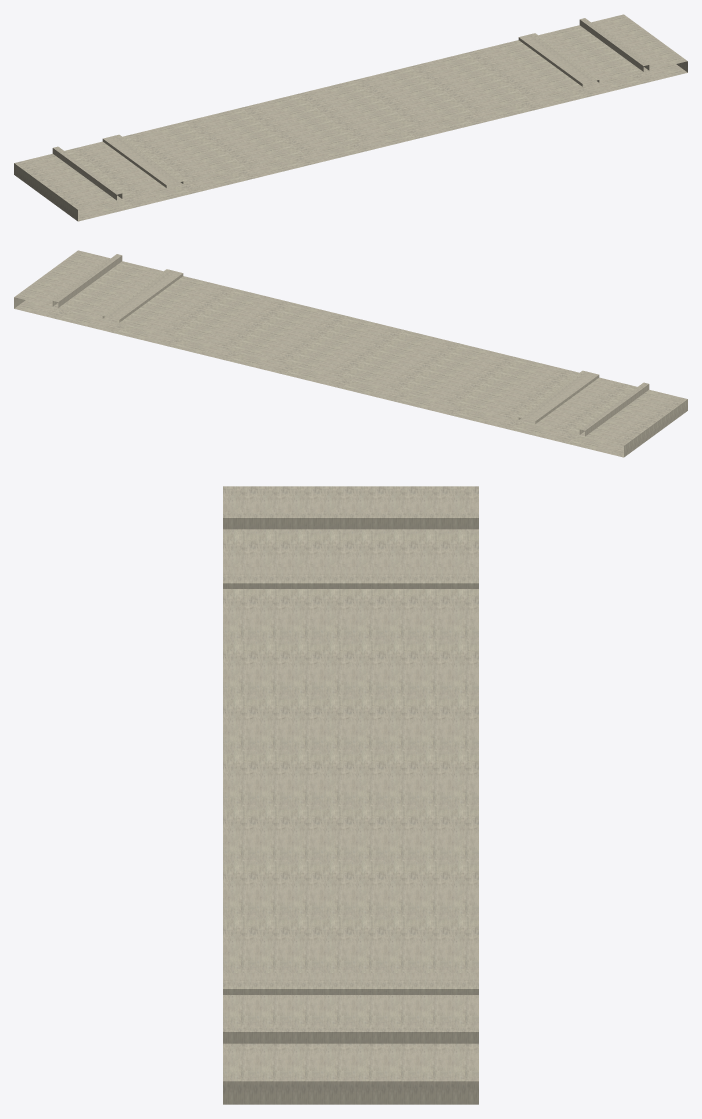
The model's file is SuspBridgeBase-6L-10M.FBX.
3 renders of one model, top to bottom at view 1: azimuth 30°, elevation 25°; view 2: azimuth 150°, elevation 25°; view 3: azimuth 270°, elevation 25°, orthographic. The views are drawn at different scales.
Parts seen in each view (by area): view 1: SuspBridgeBase-6L-10M; view 2: SuspBridgeBase-6L-10M; view 3: SuspBridgeBase-6L-10M.
Boxes of the visible parts, x1,y1,x2,y2 form: SuspBridgeBase-6L-10M: (14,14,687,221); SuspBridgeBase-6L-10M: (14,250,687,457); SuspBridgeBase-6L-10M: (223,486,478,1104).
Bounding box in the file's own units: 55 × 1.5 × 10.
